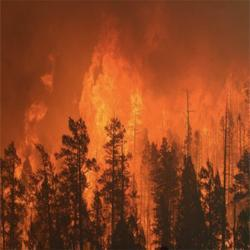fire: (84, 46, 122, 119)
